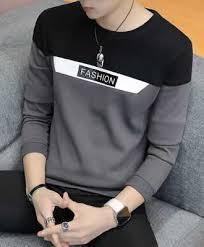Tshirt: (22, 3, 195, 203)
